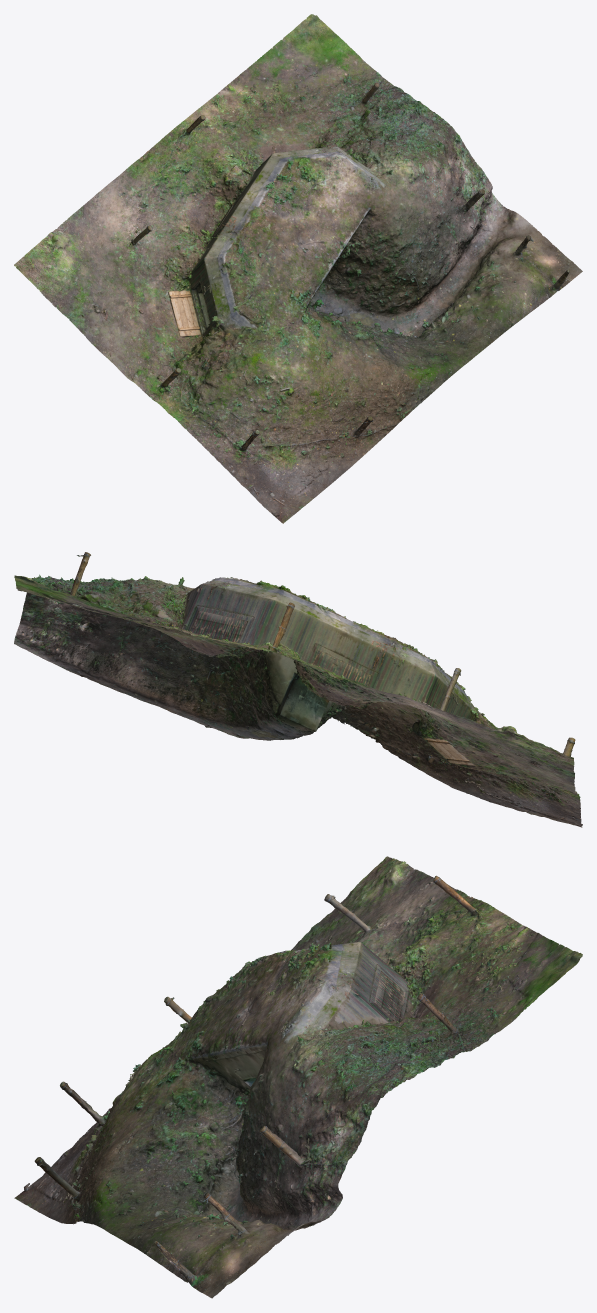
The model's file is bunker.glb.
3 renders of one model, top to bottom at view 1: azimuth 30°, elevation 25°; view 2: azimuth 150°, elevation 25°; view 3: azimuth 270°, elevation 25°, orthographic. The views are drawn at different scales.
Visible parts, largest first — view 1: bunker; view 2: bunker; view 3: bunker.
Part boxes in pixels (left/top/right/bottom): bunker: left=14, top=14, right=582, bottom=523; bunker: left=14, top=552, right=582, bottom=827; bunker: left=14, top=856, right=582, bottom=1298.
Size of the model in its own units: 12.5 by 7.04 by 9.06.
Materials: 3 (3 with a texture image).
